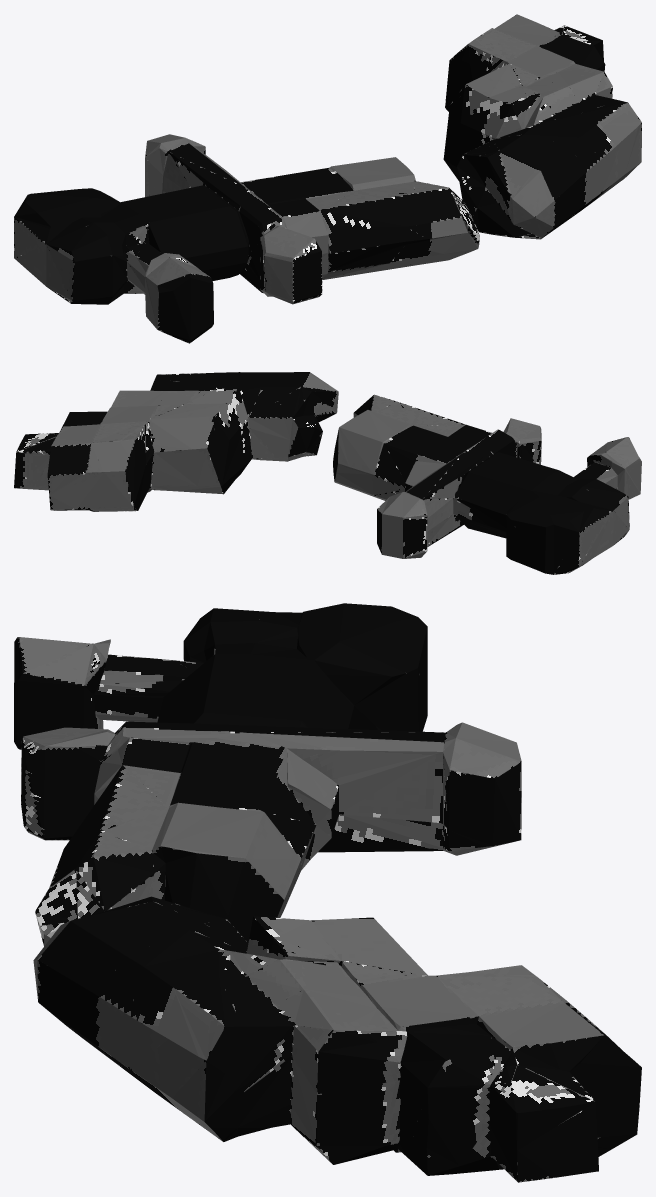
3 views of the same model, one above another, from view 1: azimuth 30°, elevation 25°; view 2: azimuth 150°, elevation 25°; view 3: azimuth 270°, elevation 25° (orthographic). The views are drawn at different scales.
Visible parts, largest first — view 1: OBJ0c9; view 2: OBJ0c9; view 3: OBJ0c9.
Boxes of the visible parts, x1,y1,x2,y2 form: OBJ0c9: (14,14,641,343); OBJ0c9: (14,372,641,574); OBJ0c9: (14,603,641,1182).
Bounding box in the file's own units: 0.3205 × 0.0506 × 0.1732.
1 material, 1 textured.
